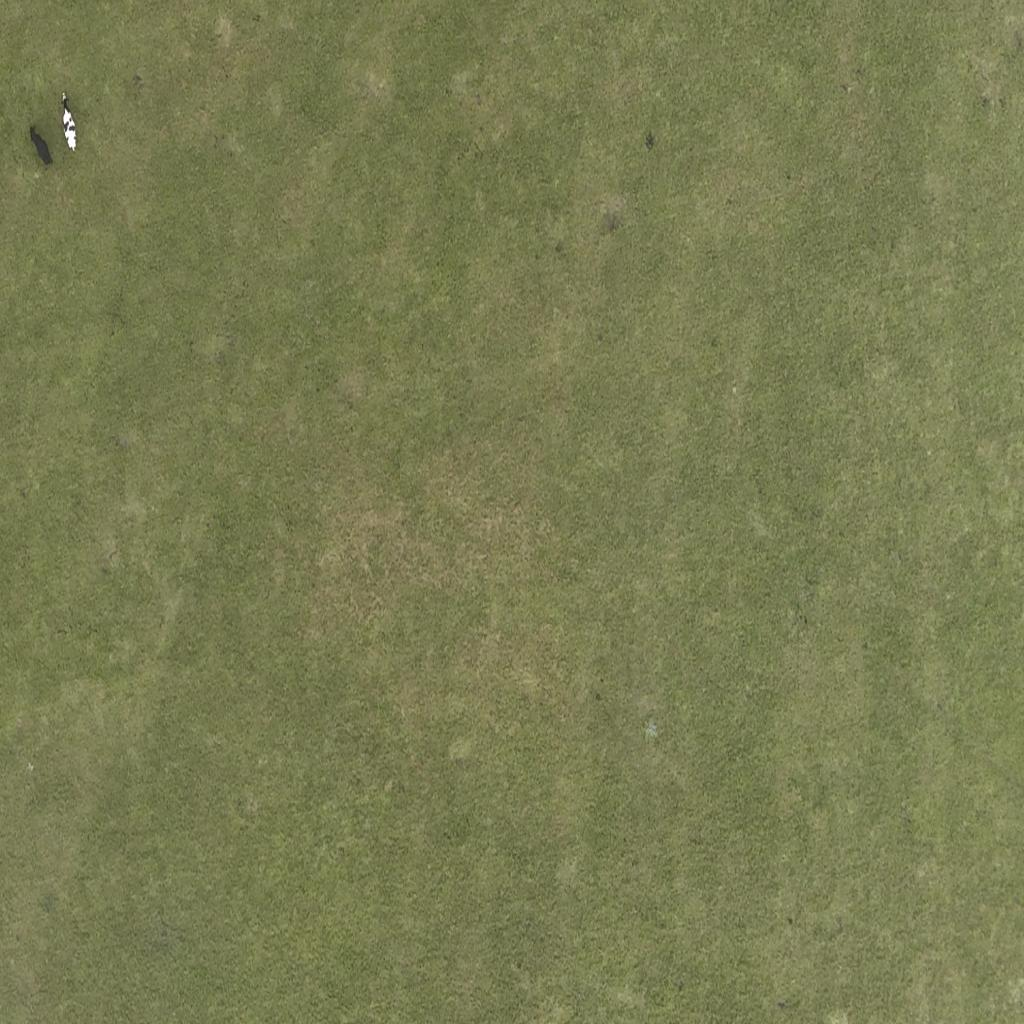cow: (58, 90, 78, 154), (29, 122, 54, 167)
